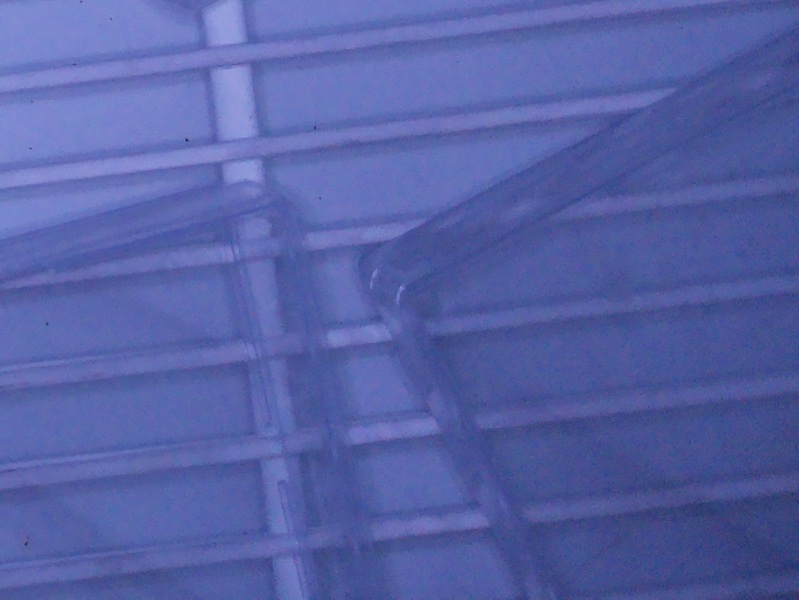plate: (355, 22, 799, 600), (1, 174, 390, 600)
